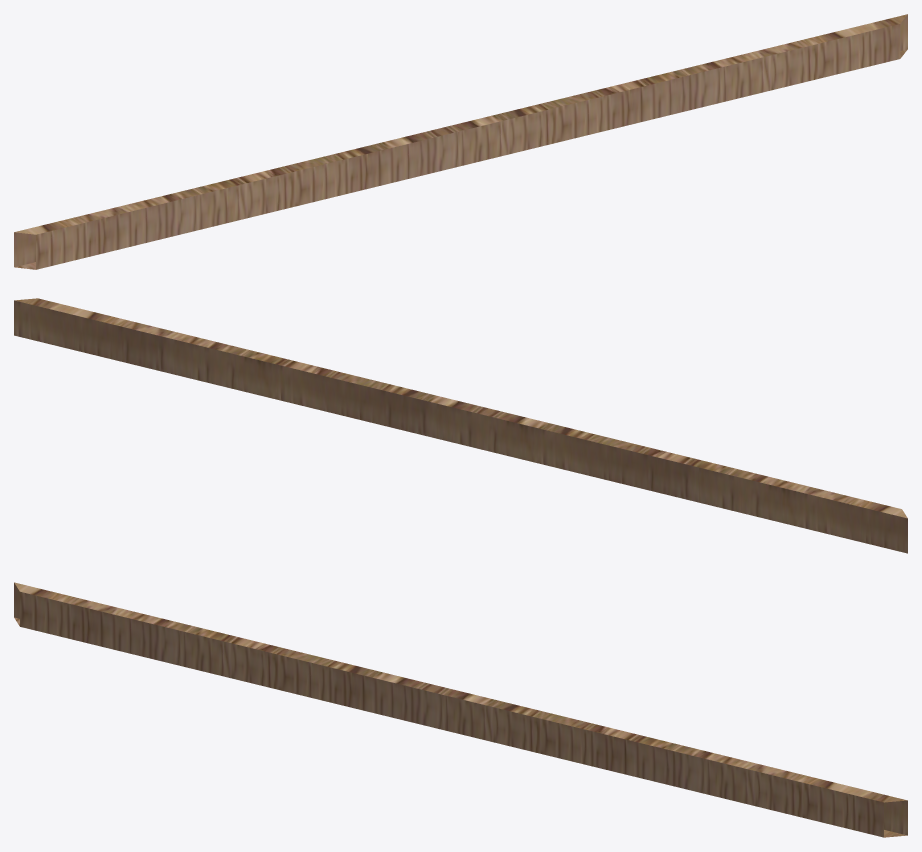
Rendered from wallExport.fbx.
3 views of the same model, one above another, from view 1: azimuth 30°, elevation 25°; view 2: azimuth 150°, elevation 25°; view 3: azimuth 330°, elevation 25° (orthographic).
Visible parts, largest first — view 1: Object_269; view 2: Object_269; view 3: Object_269.
Boxes of the visible parts, x1,y1,x2,y2 form: Object_269: (14,14,907,269); Object_269: (14,298,907,553); Object_269: (14,582,907,837).
Size of the model in its own units: 1624 by 60.96 by 25.4.
